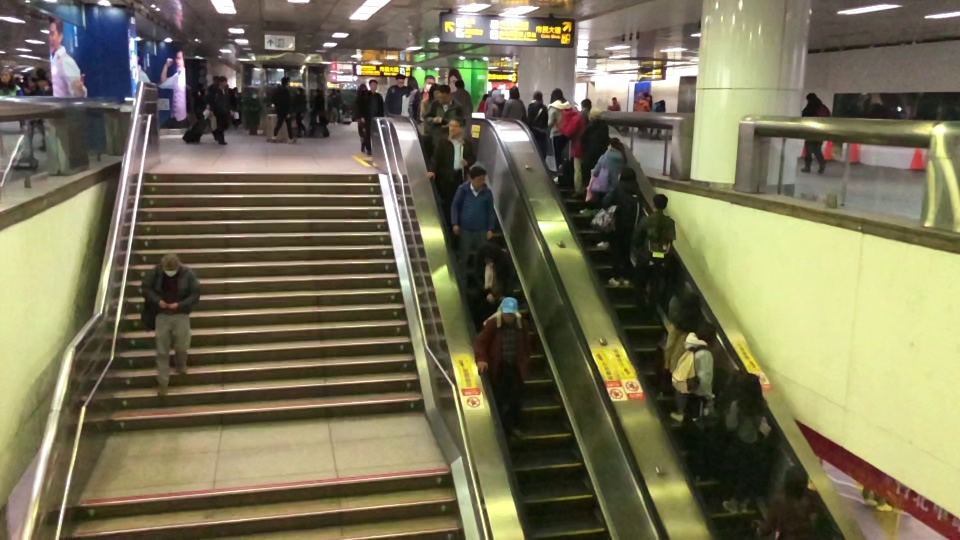person_head: (731, 373, 761, 410), (783, 467, 809, 496), (498, 295, 521, 327), (158, 252, 181, 278), (479, 239, 507, 260), (649, 191, 670, 214), (693, 322, 716, 343), (443, 118, 465, 139), (619, 167, 637, 190), (674, 285, 692, 307), (469, 168, 486, 191), (547, 89, 566, 105), (404, 75, 419, 94), (577, 96, 592, 112), (805, 91, 821, 106), (422, 75, 436, 92), (438, 86, 452, 103), (591, 120, 607, 134), (427, 85, 439, 101), (0, 70, 13, 84), (393, 72, 404, 88), (531, 88, 543, 102), (508, 86, 520, 98), (36, 75, 47, 88), (215, 76, 228, 87), (278, 77, 291, 88), (608, 135, 619, 148), (369, 77, 379, 91), (354, 82, 367, 92), (656, 97, 666, 110), (490, 90, 500, 100), (296, 86, 305, 97), (638, 90, 647, 100), (249, 89, 257, 100), (314, 93, 323, 101), (480, 93, 487, 101), (610, 97, 617, 103), (647, 94, 652, 102)
person_vbox: (141, 252, 205, 400), (473, 295, 535, 439), (717, 373, 773, 513), (602, 166, 651, 286), (660, 284, 702, 421), (629, 190, 679, 305), (673, 323, 724, 435), (755, 466, 829, 540), (444, 167, 501, 263), (425, 118, 478, 218), (465, 239, 519, 330), (585, 134, 629, 245), (562, 95, 596, 197), (796, 90, 834, 177), (544, 88, 575, 183), (580, 119, 610, 217), (34, 74, 59, 151), (360, 77, 384, 155), (206, 76, 233, 145), (271, 77, 298, 146), (427, 86, 465, 134), (525, 88, 550, 159), (351, 83, 372, 154), (411, 74, 438, 124), (307, 92, 333, 138), (630, 90, 652, 142), (422, 84, 442, 136), (384, 72, 405, 120), (400, 74, 422, 119), (649, 95, 671, 139), (503, 84, 528, 119), (292, 85, 309, 136), (243, 88, 261, 135), (1, 69, 19, 102), (605, 95, 623, 126), (486, 90, 504, 118), (644, 94, 655, 136), (475, 92, 489, 114)
